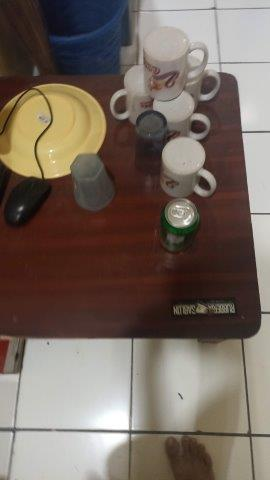kaleng: (158, 199, 202, 254)
